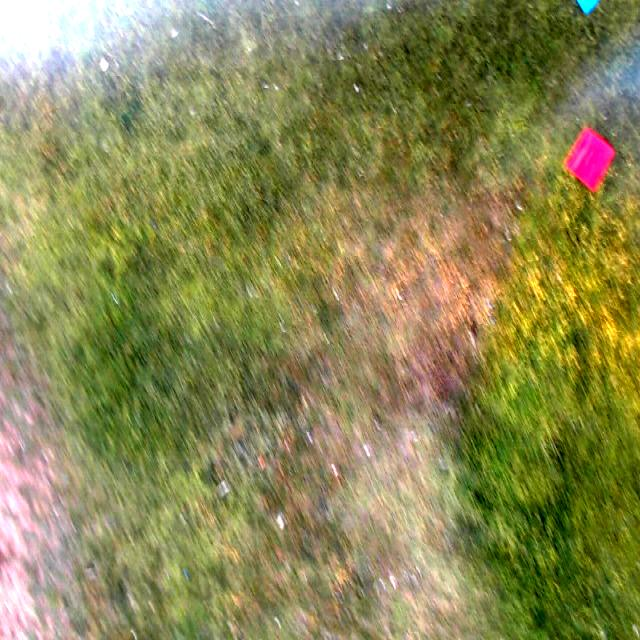red_square: (564, 128, 614, 194)
